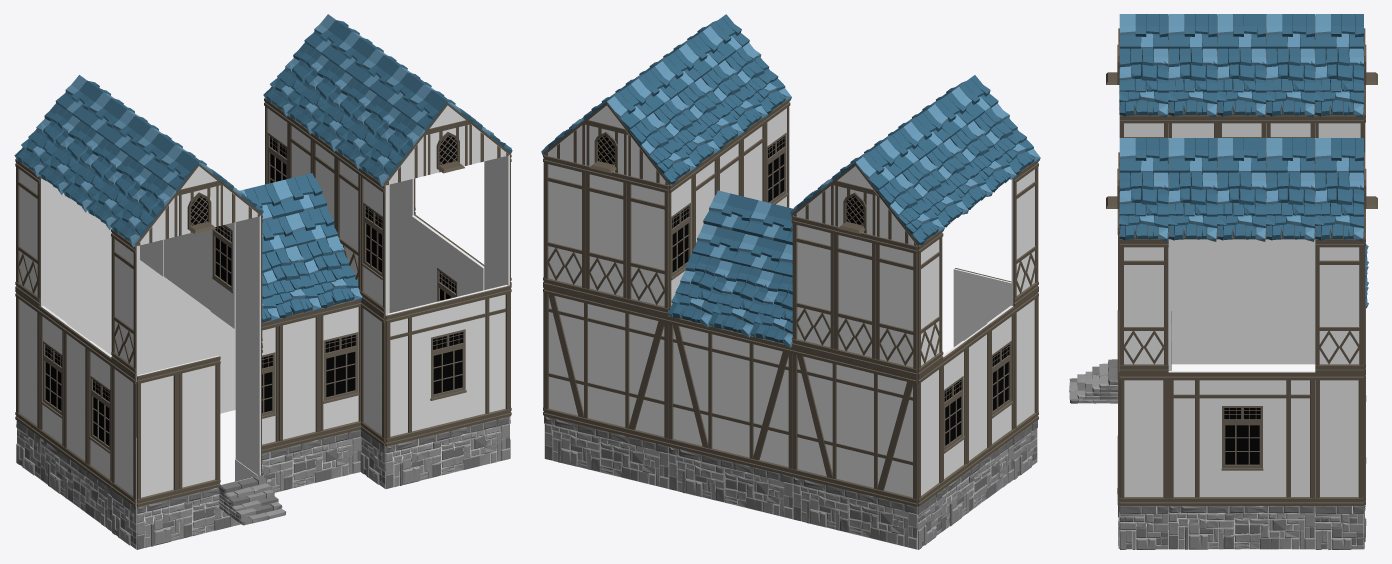
File: House_10_parts.glb
The picture shows the model from 3 angles, left to right: view 1: azimuth 30°, elevation 25°; view 2: azimuth 150°, elevation 25°; view 3: azimuth 270°, elevation 25°; orthographic projection. The views are drawn at different scales.
Visible parts, largest first — view 1: WINDOW_03_2, WALL_02_3, WALL_03_4, WALL_03_9, WALL_03_3, FOUNDATION_02_25, WINDOW_04_6, WINDOW_03_3, WALL_02_2, FOUNDATION_02_24, FOUNDATION_02_26, WALL_01_1 (+64 smaller); view 2: WALL_02_3, WALL_02_2, WALL_02_4, WALL_01_4, WALL_01_16, WALL_01_10, WALL_01_5, WALL_01_3, WALL_01_15, FOUNDATION_02_29, FOUNDATION_02_28, FOUNDATION_02_30 (+51 smaller); view 3: WINDOW_03_3, WALL_01_11, WALL_03_11, WALL_01_9, FOUNDATION_02_27, WALL_03_12, FOUNDATION_02_31, WALL_01_13, WALL_01_12, WALL_01_14, ROOF_base_3, ROOF_base_13 (+30 smaller).
Part boxes in pixels (left/top/right/bottom): WINDOW_03_2: left=385, top=285, right=510, bottom=446; WALL_02_3: left=142, top=262, right=235, bottom=373; WALL_03_4: left=136, top=365, right=179, bottom=506; WALL_03_9: left=278, top=310, right=320, bottom=448; WALL_03_3: left=178, top=355, right=220, bottom=496; FOUNDATION_02_25: left=385, top=416, right=509, bottom=488; WINDOW_04_6: left=320, top=300, right=361, bottom=438; WINDOW_03_3: left=411, top=215, right=484, bottom=307; WALL_02_2: left=42, top=260, right=142, bottom=374; FOUNDATION_02_24: left=261, top=429, right=361, bottom=492; FOUNDATION_02_26: left=136, top=477, right=252, bottom=549; WALL_01_1: left=111, top=229, right=138, bottom=376; WALL_02_3: left=668, top=315, right=792, bottom=476; WALL_02_2: left=792, top=346, right=917, bottom=506; WALL_02_4: left=543, top=286, right=668, bottom=446; WALL_01_4: left=875, top=236, right=917, bottom=376; WALL_01_16: left=626, top=175, right=668, bottom=316; WALL_01_10: left=543, top=155, right=585, bottom=295; WALL_01_5: left=792, top=216, right=834, bottom=356; WALL_01_3: left=833, top=226, right=875, bottom=366; WALL_01_15: left=585, top=165, right=627, bottom=305; FOUNDATION_02_29: left=669, top=446, right=793, bottom=519; FOUNDATION_02_28: left=793, top=477, right=917, bottom=549; FOUNDATION_02_30: left=544, top=416, right=668, bottom=488; WINDOW_03_3: left=1168, top=371, right=1315, bottom=505; WALL_01_11: left=1119, top=239, right=1168, bottom=372; WALL_03_11: left=1119, top=373, right=1168, bottom=505; WALL_01_9: left=1315, top=239, right=1363, bottom=372; FOUNDATION_02_27: left=1171, top=320, right=1315, bottom=364; WALL_03_12: left=1315, top=373, right=1363, bottom=505; FOUNDATION_02_31: left=1168, top=506, right=1315, bottom=549; WALL_01_13: left=1217, top=239, right=1266, bottom=310; WALL_01_12: left=1168, top=239, right=1217, bottom=310; WALL_01_14: left=1266, top=239, right=1315, bottom=310; ROOF_base_3: left=1119, top=48, right=1168, bottom=117; ROOF_base_13: left=1119, top=172, right=1168, bottom=241.
Bounding box in the file's own units: 9.2 × 8.59 × 6.31.
Materials: 1 (1 with a texture image).
